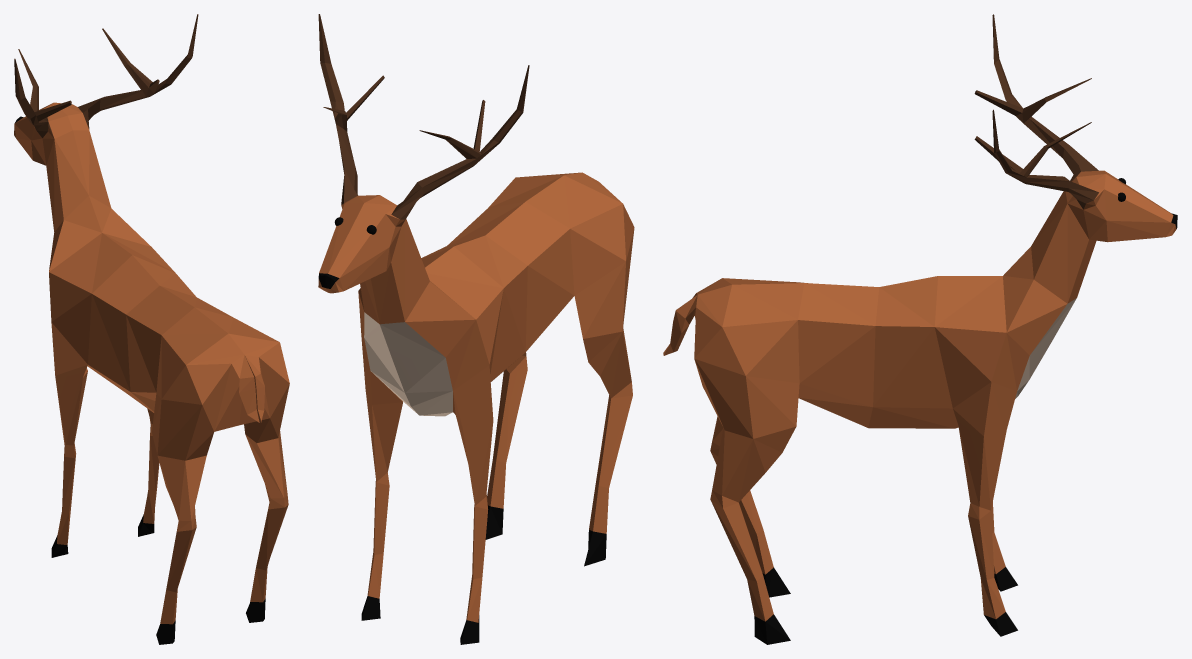
Rendered from reindeer.fbx.
The picture shows the model from 3 angles, left to right: view 1: azimuth 30°, elevation 25°; view 2: azimuth 150°, elevation 25°; view 3: azimuth 270°, elevation 25°; orthographic projection. The views are drawn at different scales.
Visible parts, largest first — view 1: body; view 2: body; view 3: body.
Part boxes in pixels (x1,y1,x2,y2): body: (14, 14, 289, 644); body: (318, 14, 634, 644); body: (663, 14, 1177, 644).
Bounding box in the file's own units: 24.31 × 65.42 × 54.89.
